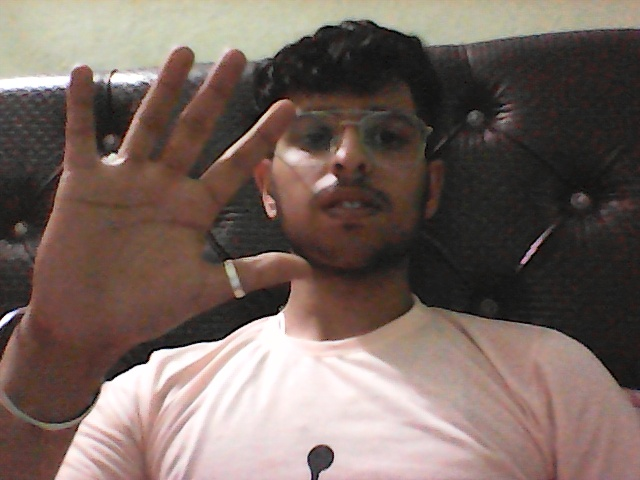hello: (14, 39, 309, 436)
